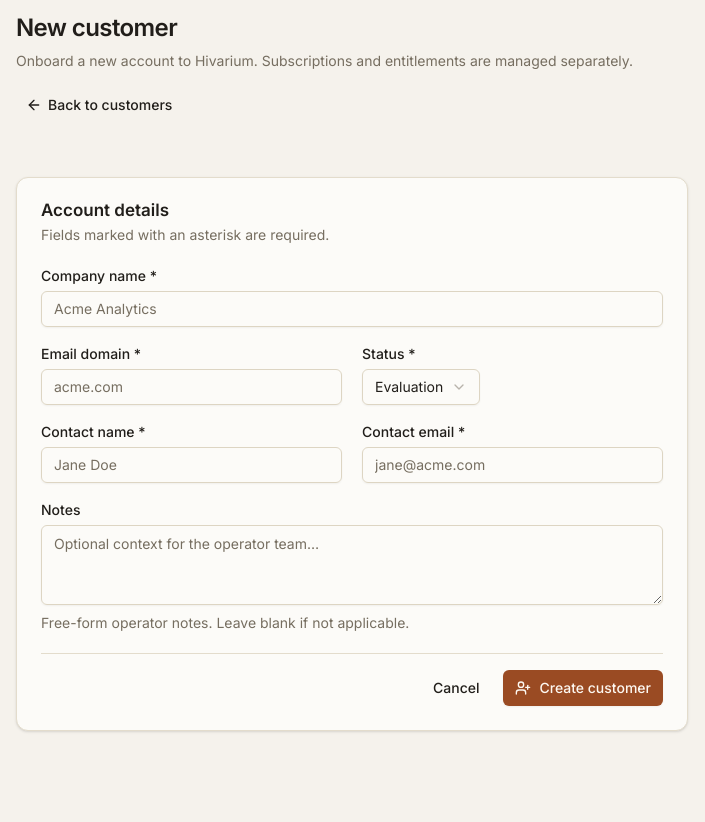
it: CreateCustomerPage › blocks submission when the derived id already exists
// "Northwind" derives to cust_northwind, which already exists in the seed.
In the field named "name": {"x": 352, "y": 309} top-left (41, 291), bottom-right (663, 327), type "Northwind"
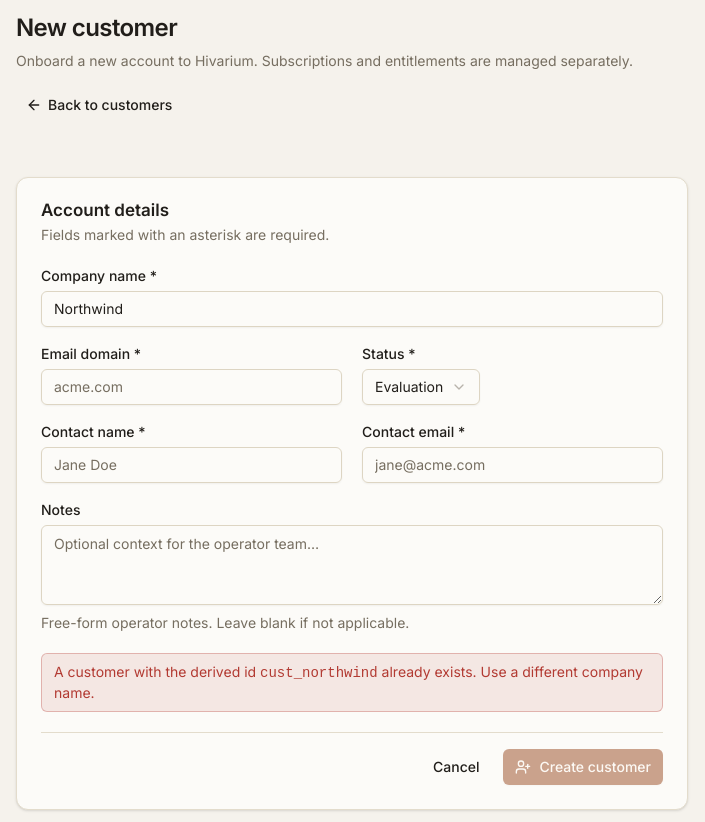
Result: the element with test id "duplicate-note" is shown at top-left (41, 653), bottom-right (663, 712)
Result: the button with test id "submit-customer" is disabled at top-left (504, 749), bottom-right (663, 785)
